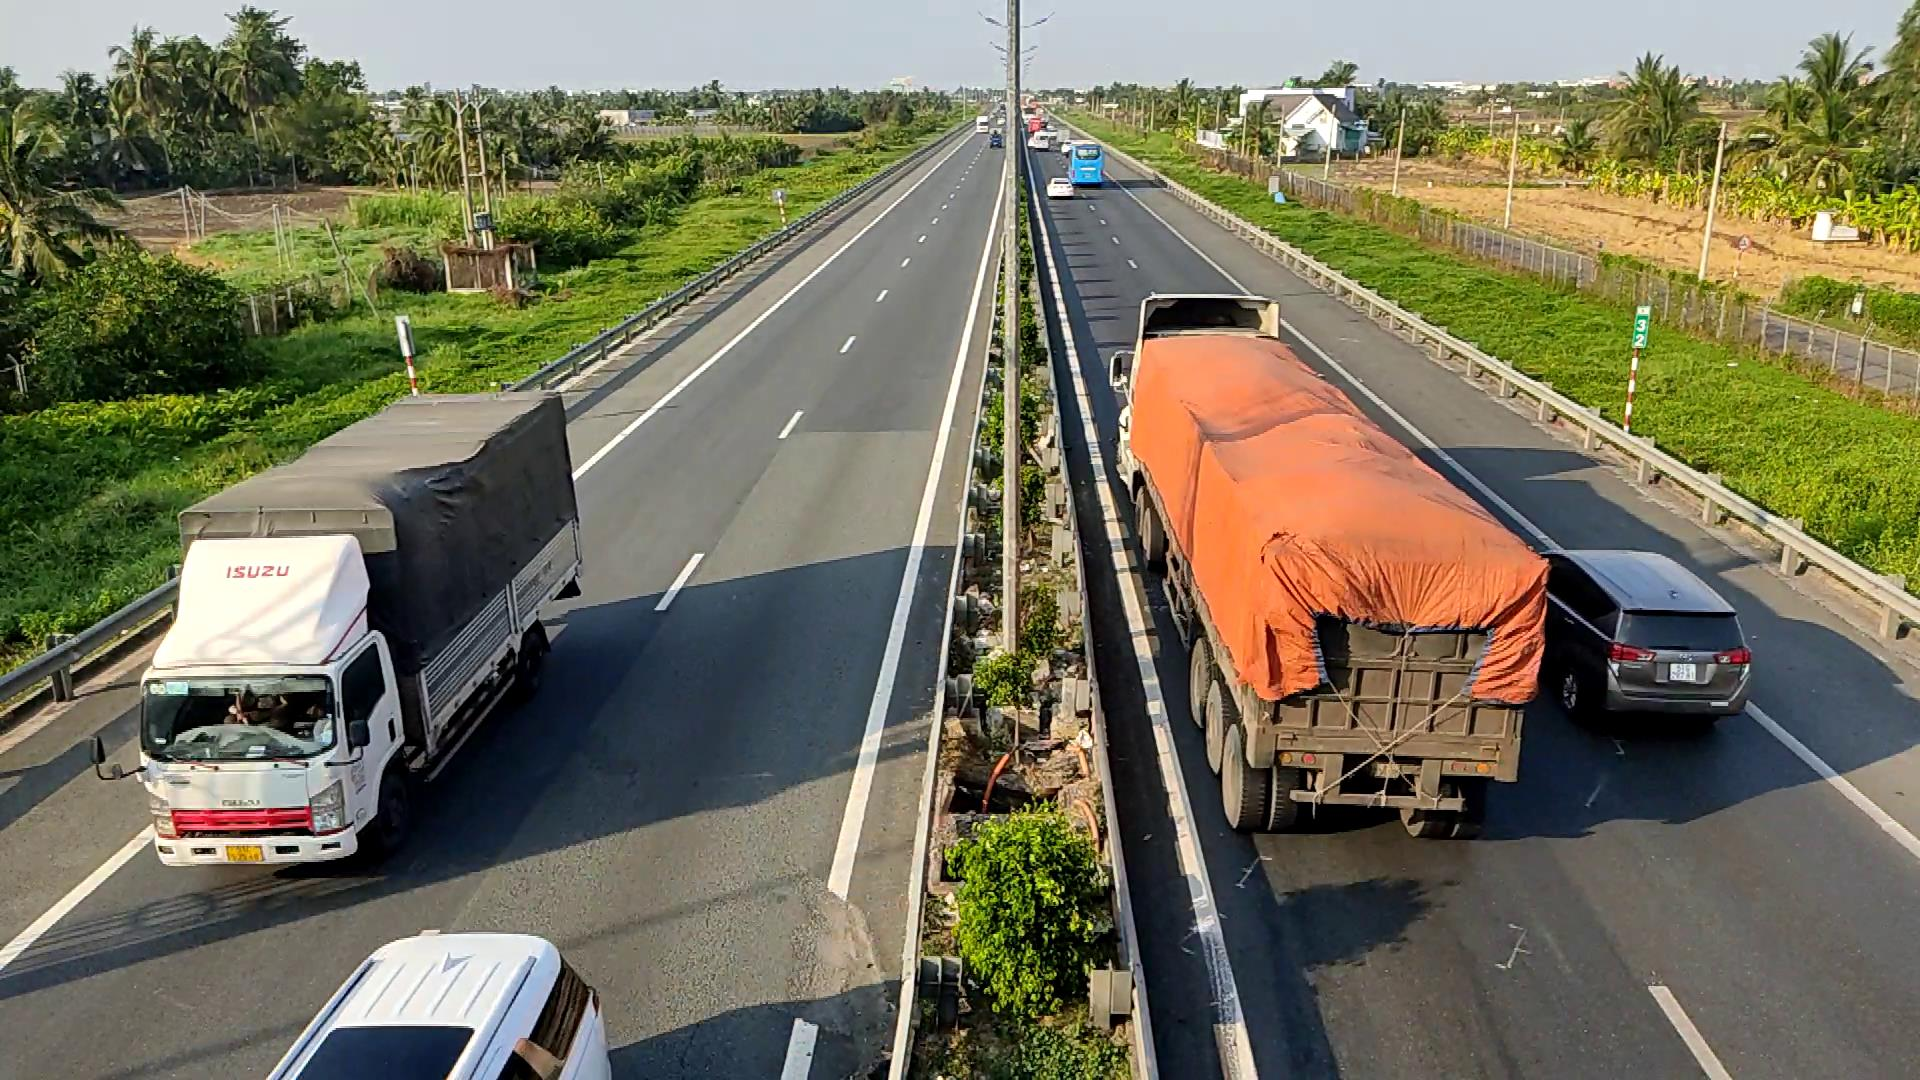car: (266, 928, 615, 1077), (1536, 546, 1753, 727)
truck: (1112, 290, 1549, 837), (135, 386, 585, 872)
